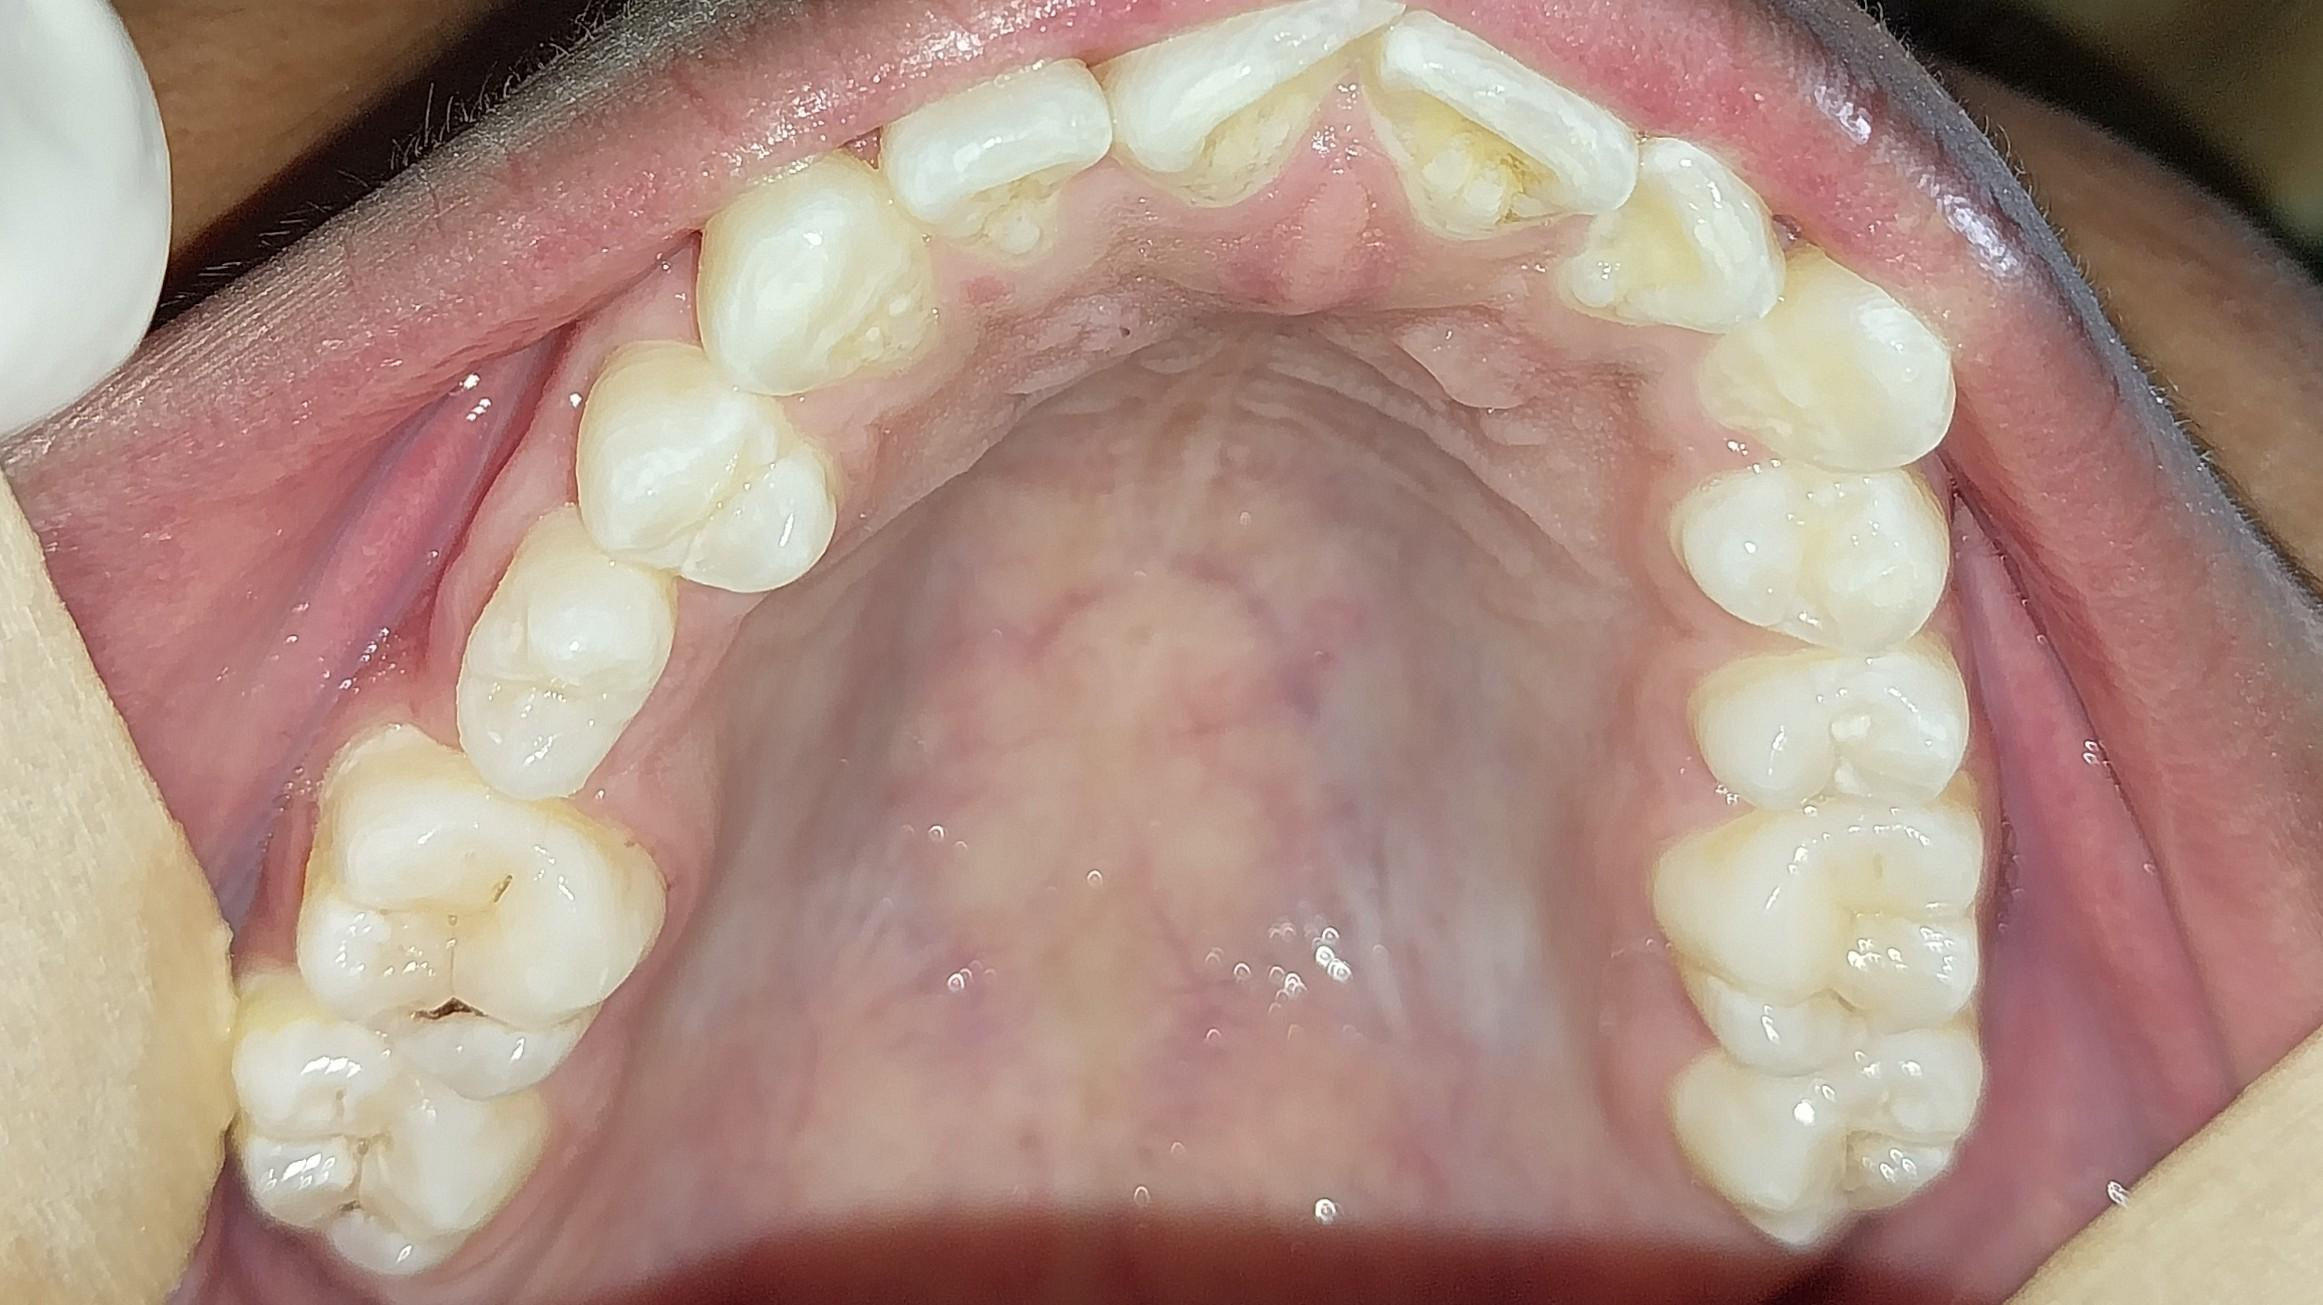D: (310, 745, 654, 1101)
